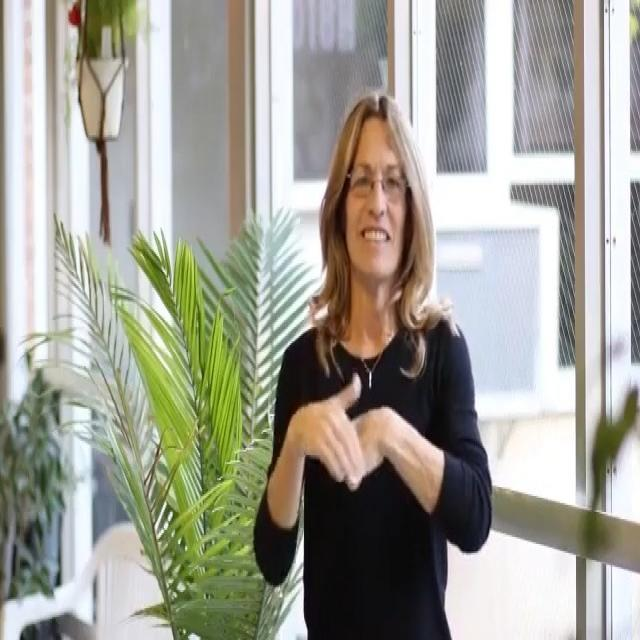bread: (280, 360, 424, 506)
